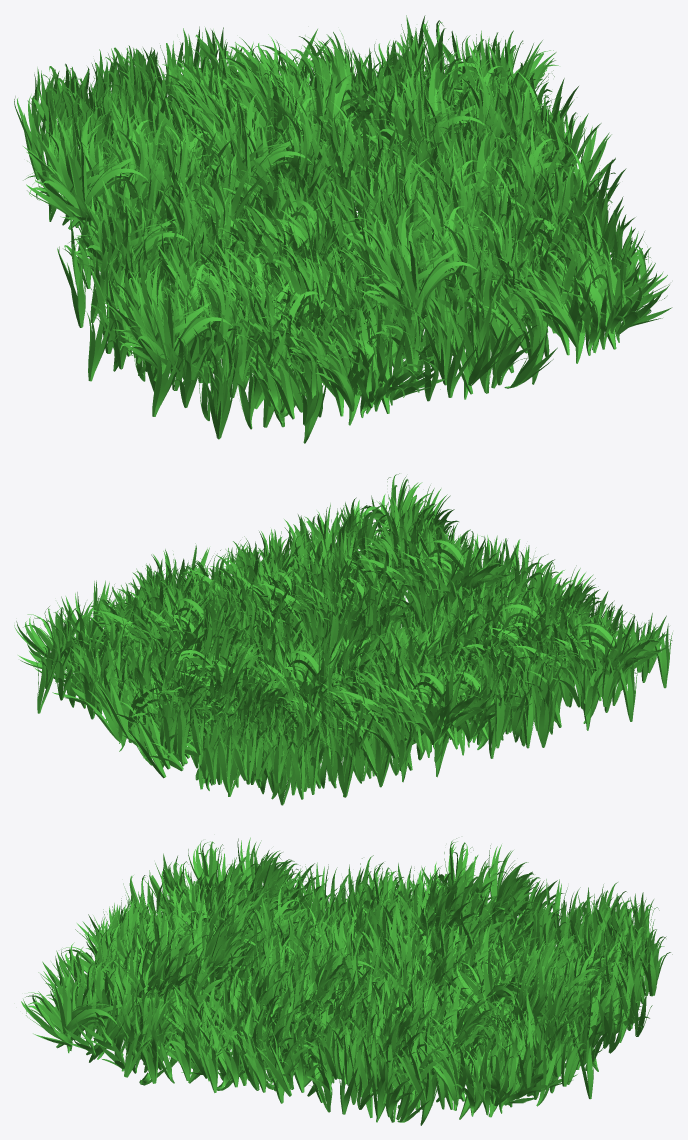
Rendered from grass.glb.
3 views of the same model, one above another, from view 1: azimuth 30°, elevation 25°; view 2: azimuth 150°, elevation 25°; view 3: azimuth 270°, elevation 25° (orthographic). The views are drawn at different scales.
Parts seen in each view (by area): view 1: brush_Petal_g0_b3_5, brush_Petal_g0_b1_3, brush_Petal_g0_b0_0, brush_Petal_g0_b2_4; view 2: brush_Petal_g0_b3_5, brush_Petal_g0_b2_4, brush_Petal_g0_b1_3, brush_Petal_g0_b0_0; view 3: brush_Petal_g0_b3_5, brush_Petal_g0_b0_0, brush_Petal_g0_b2_4, brush_Petal_g0_b1_3.
Part boxes in pixels (bbox=[...]): brush_Petal_g0_b3_5: bbox=[14, 15, 635, 328]; brush_Petal_g0_b1_3: bbox=[54, 72, 529, 443]; brush_Petal_g0_b0_0: bbox=[98, 30, 672, 419]; brush_Petal_g0_b2_4: bbox=[30, 26, 580, 285]; brush_Petal_g0_b3_5: bbox=[35, 496, 516, 797]; brush_Petal_g0_b2_4: bbox=[69, 538, 481, 805]; brush_Petal_g0_b1_3: bbox=[73, 554, 672, 787]; brush_Petal_g0_b0_0: bbox=[14, 473, 626, 770]; brush_Petal_g0_b3_5: bbox=[91, 838, 646, 1110]; brush_Petal_g0_b0_0: bbox=[21, 875, 577, 1125]; brush_Petal_g0_b2_4: bbox=[172, 890, 672, 1071]; brush_Petal_g0_b1_3: bbox=[60, 837, 572, 1108].
Size of the model in its own units: 0.913 by 0.2439 by 1.01.
